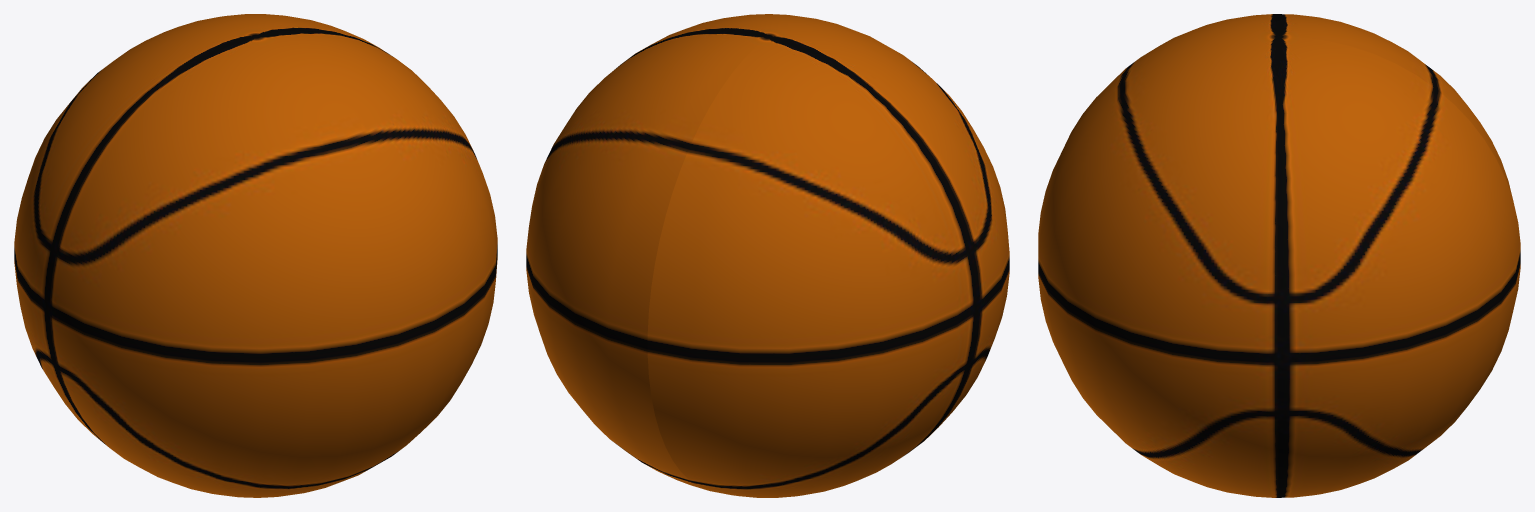
File: Basketball.fbx
The picture shows the model from 3 angles, left to right: view 1: azimuth 30°, elevation 25°; view 2: azimuth 150°, elevation 25°; view 3: azimuth 270°, elevation 25°; orthographic projection.
Visible parts, largest first — view 1: basketball; view 2: basketball; view 3: basketball.
Part boxes in pixels (x1=…): basketball: x1=14, y1=14, x2=497, y2=497; basketball: x1=526, y1=14, x2=1009, y2=497; basketball: x1=1038, y1=14, x2=1520, y2=497.
Size of the model in its own units: 0.4882 by 0.4895 by 0.4876.
